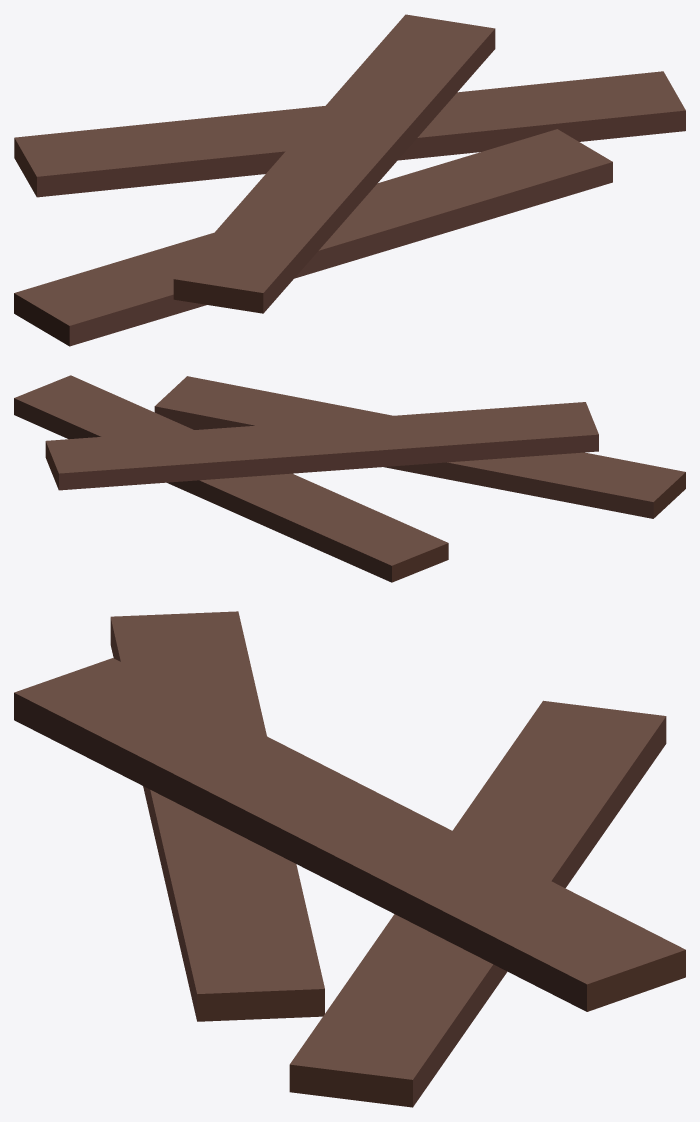
File: SD_Prop_PanksRed_02.fbx
3 renders of one model, top to bottom at view 1: azimuth 30°, elevation 25°; view 2: azimuth 150°, elevation 25°; view 3: azimuth 270°, elevation 25°, orthographic. The views are drawn at different scales.
Parts seen in each view (by area): view 1: SD_Prop_PanksRed_02; view 2: SD_Prop_PanksRed_02; view 3: SD_Prop_PanksRed_02.
Boxes of the visible parts, left/top/right/bottom form: SD_Prop_PanksRed_02: left=14, top=14, right=685, bottom=346; SD_Prop_PanksRed_02: left=14, top=375, right=685, bottom=582; SD_Prop_PanksRed_02: left=14, top=611, right=685, bottom=1107.
Size of the model in its own units: 5.1 by 0.2805 by 3.09.
